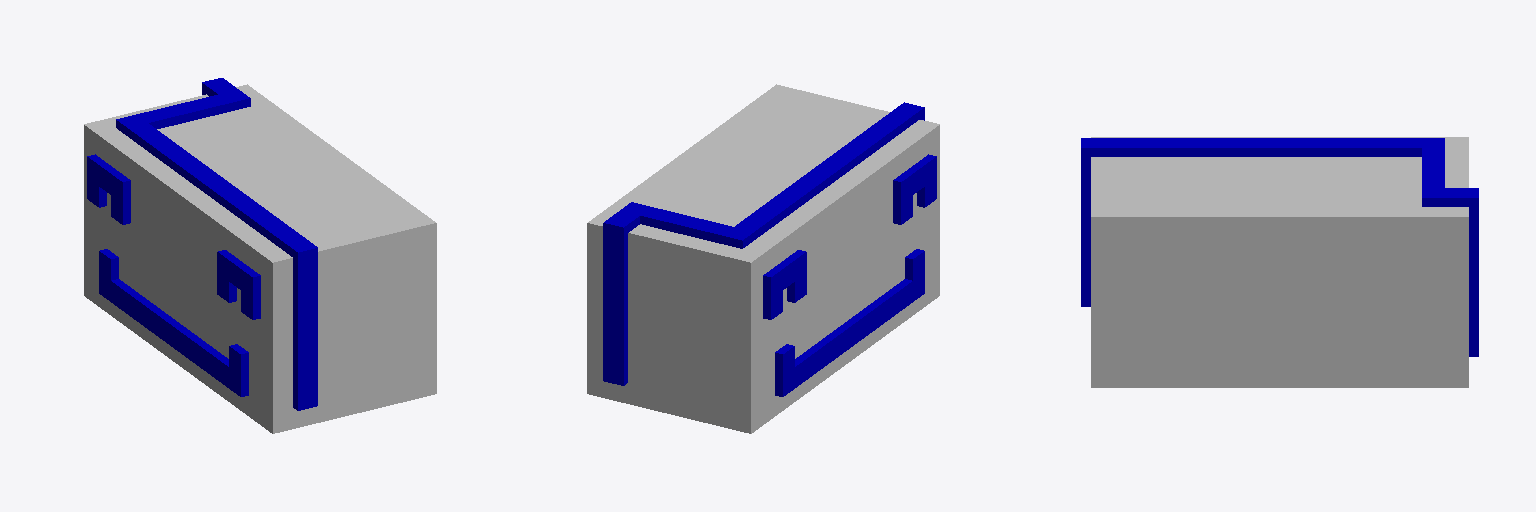
The model's file is robot-head.obj.
The picture shows the model from 3 angles: view 1: azimuth 30°, elevation 25°; view 2: azimuth 150°, elevation 25°; view 3: azimuth 270°, elevation 25°; orthographic projection.
Visible parts, largest first — view 1: Cube.001, Cube; view 2: Cube.001, Cube; view 3: Cube.001, Cube.
Part boxes in pixels (bbox=[...]): Cube.001: bbox=[84, 84, 436, 433]; Cube: bbox=[87, 78, 317, 410]; Cube.001: bbox=[587, 84, 939, 433]; Cube: bbox=[603, 102, 936, 396]; Cube.001: bbox=[1091, 137, 1468, 387]; Cube: bbox=[1081, 138, 1478, 356].
Size of the model in its own units: 2.1 by 2.1 by 4.2.